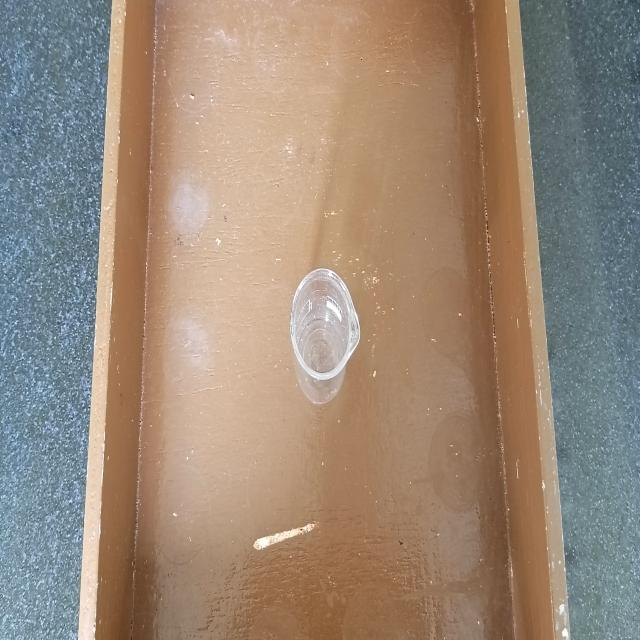beaker: (288, 261, 363, 414)
